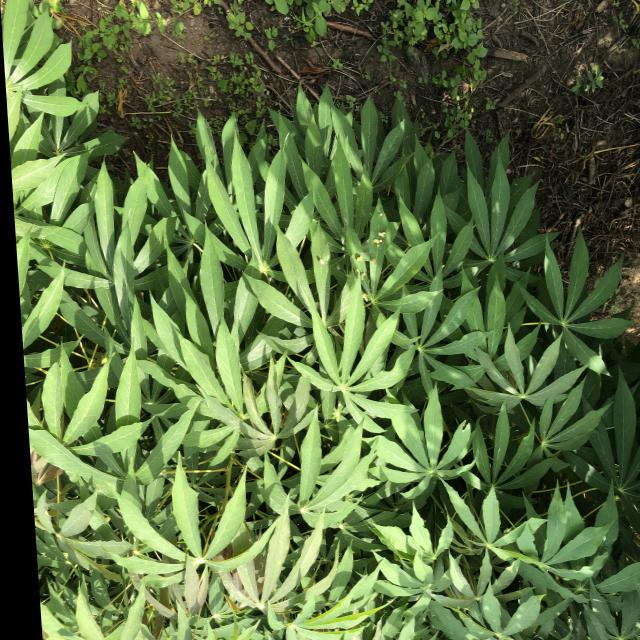Mosca: (352, 267, 370, 288), (373, 228, 390, 247), (373, 202, 386, 219), (314, 252, 324, 265), (350, 253, 362, 260)
